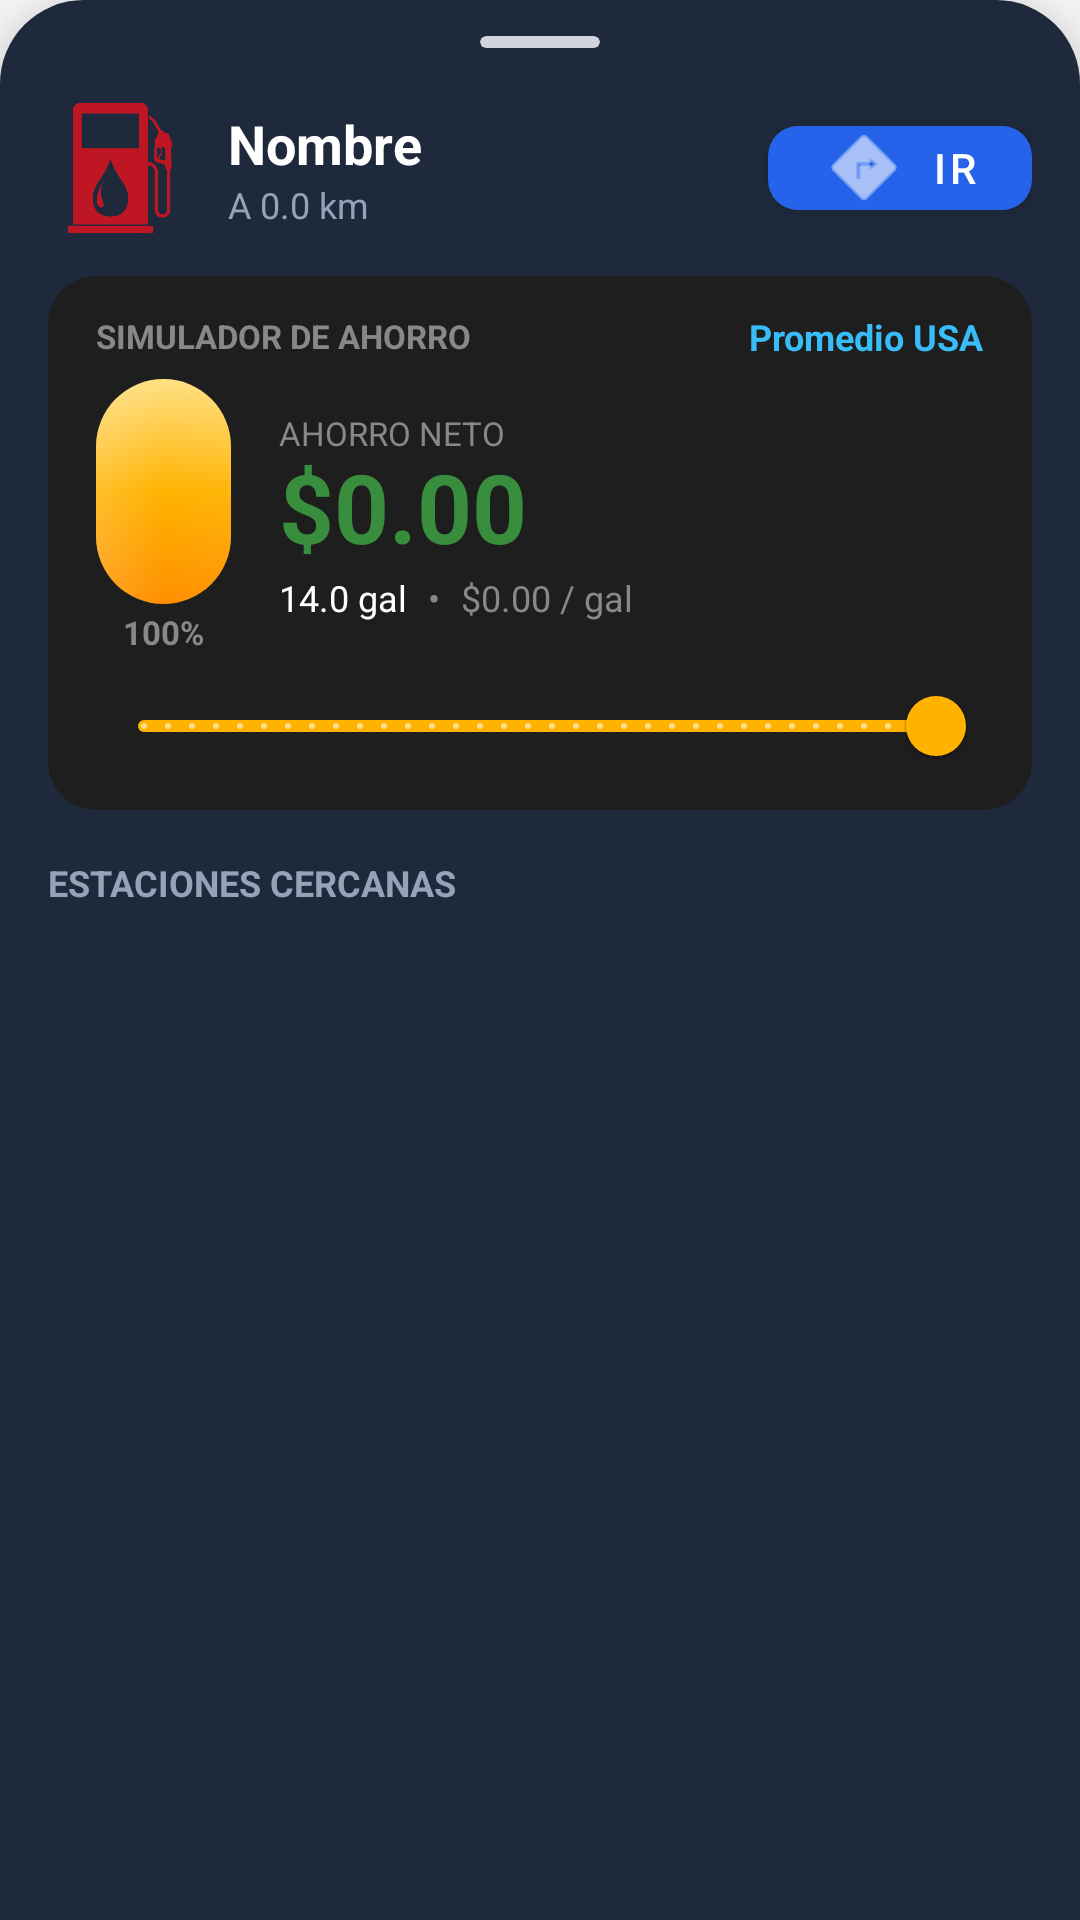

Locate icon controls on the screen. Image size 1080 × 1920, boxes as (x1, y1, x2, y2).
gasolina: (67, 103, 172, 233)
